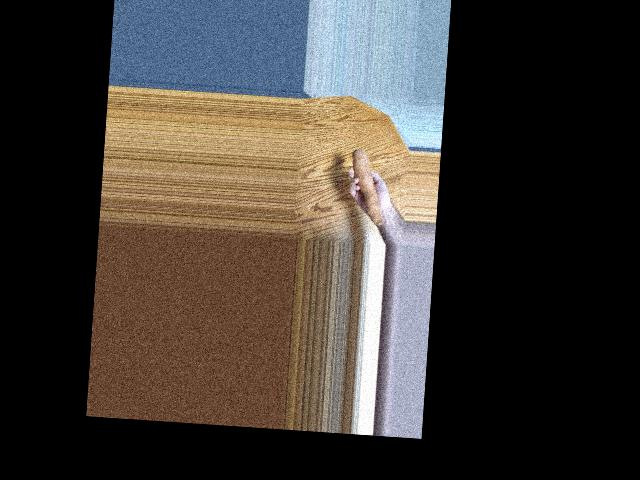sweet_potato: (346, 147, 387, 224)
